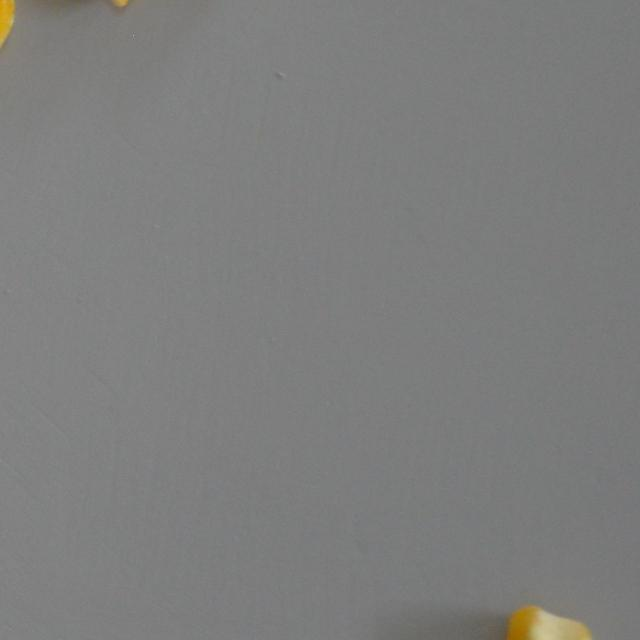no_desgerminado: (496, 598, 601, 640)
pelicula: (58, 0, 160, 12)
